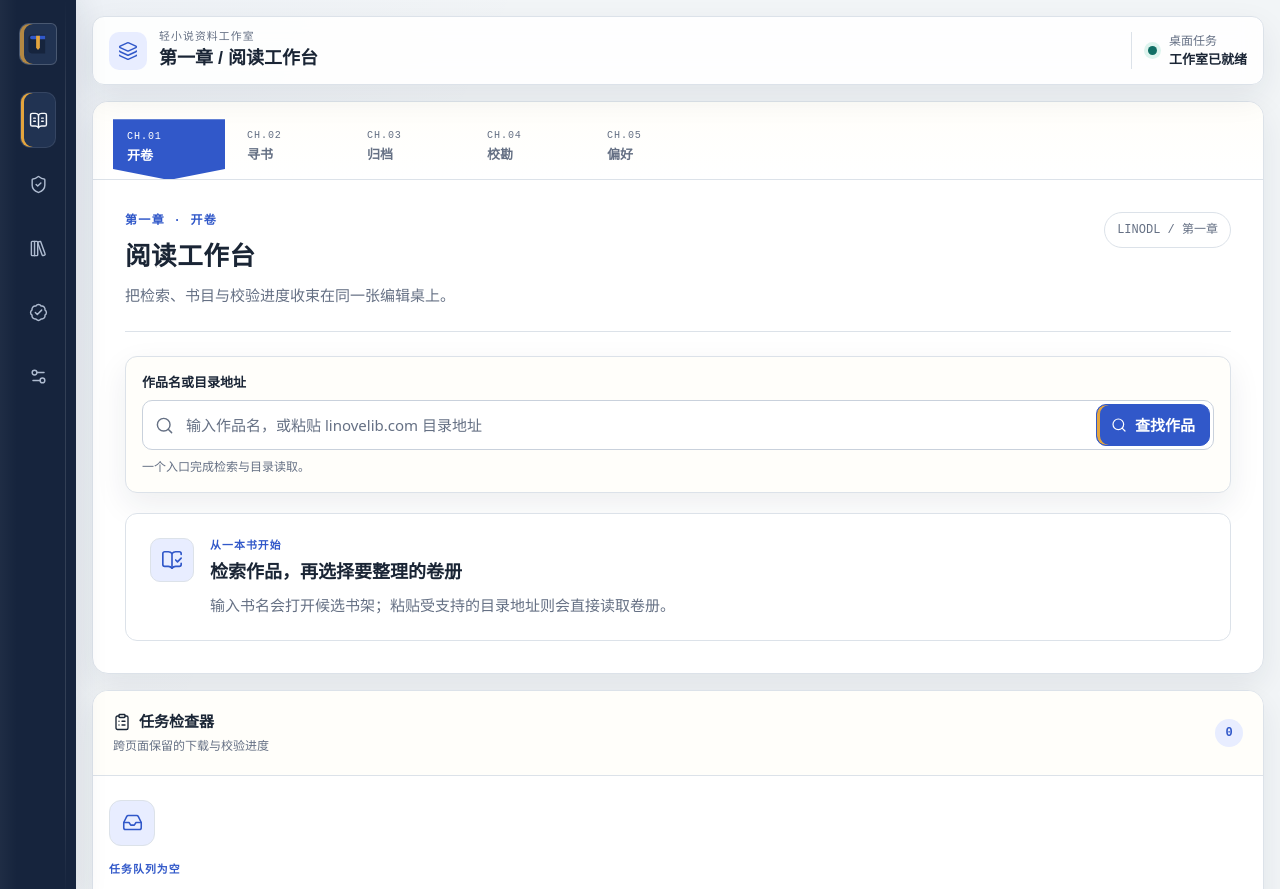
it: DesktopShell › opens browser profile health checks and manual verification from navigation
This screenshot has width=1280, height=889.
Click the button named "浏览档案" at [38, 184], box [20,156,56,212]
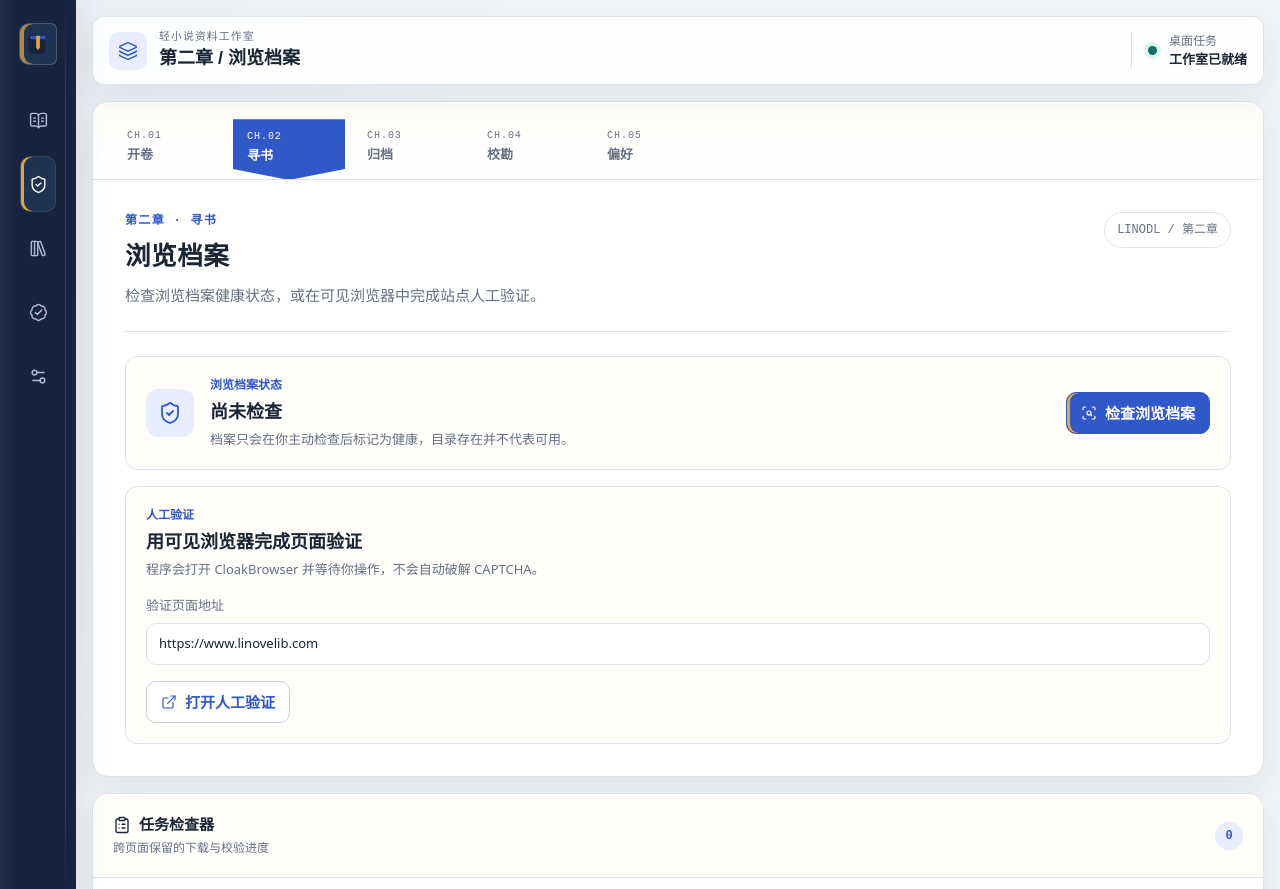
Expected: the heading "尚未检查" is shown, [210,402,282,422]
Expected: the button "检查浏览档案" is shown, [1066,392,1210,434]
Expected: the button "打开人工验证" is shown, [146,681,290,723]
